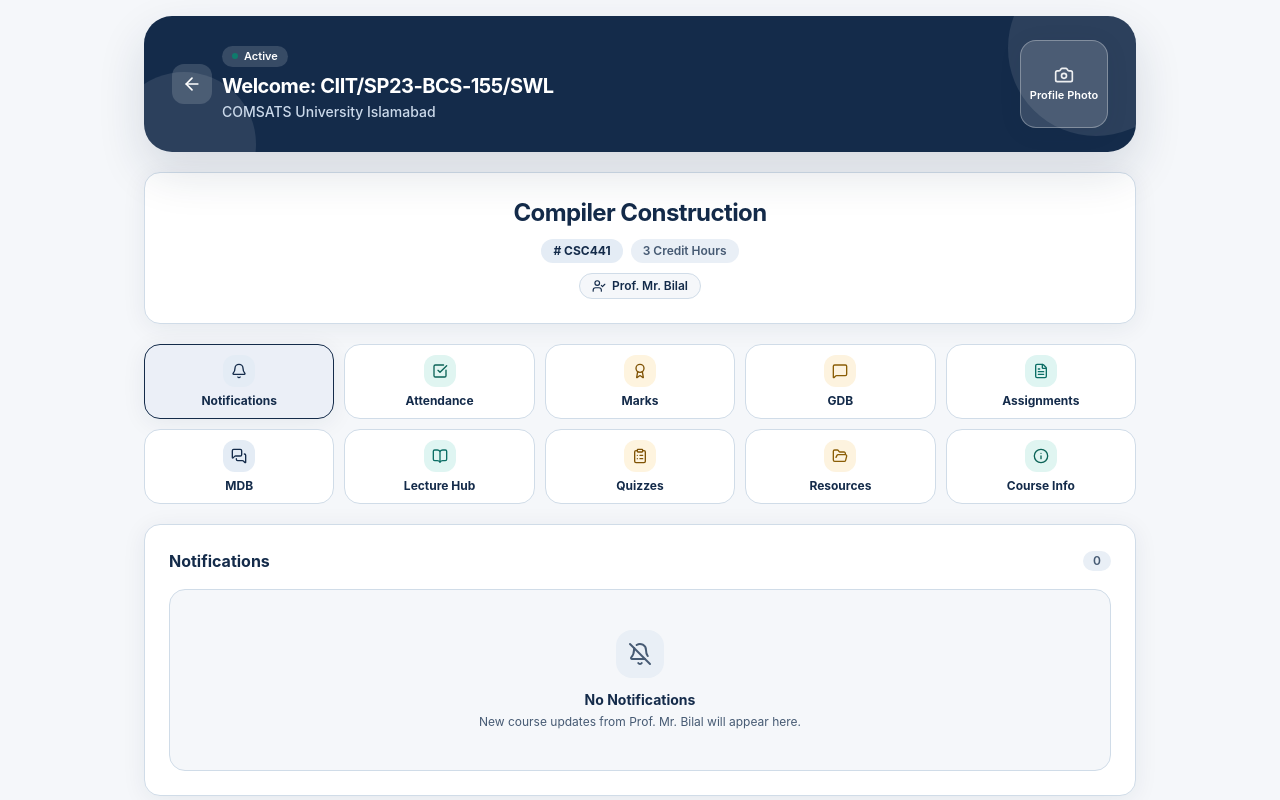
StudentCourseDetailPage › supports Assignment upload and Marks, Resources, GDB, and MDB views inline
This screenshot has width=1280, height=800.
Later steps or results of the test are not shown.
Click the button "Marks".
click(640, 382)  # box [545,344,735,419]
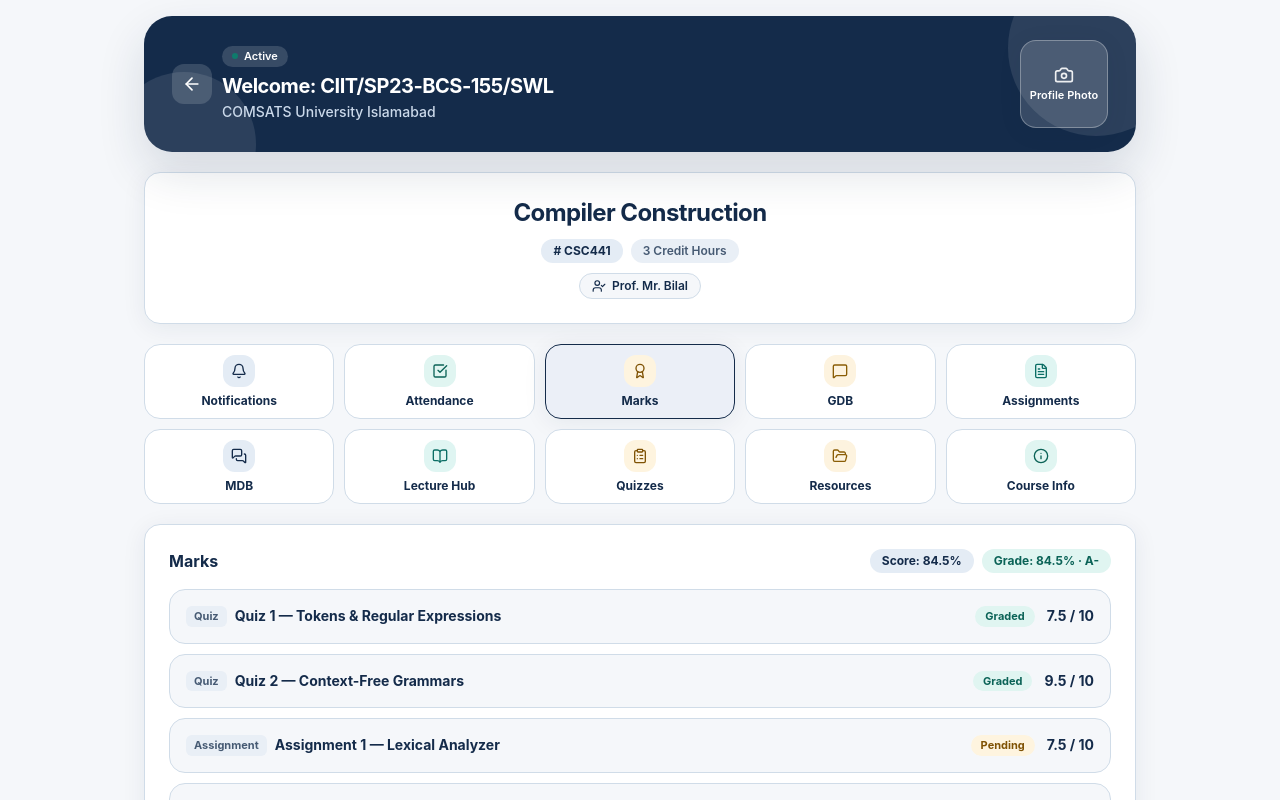
Result: the heading "Marks" is shown at [169,549,218,573]
